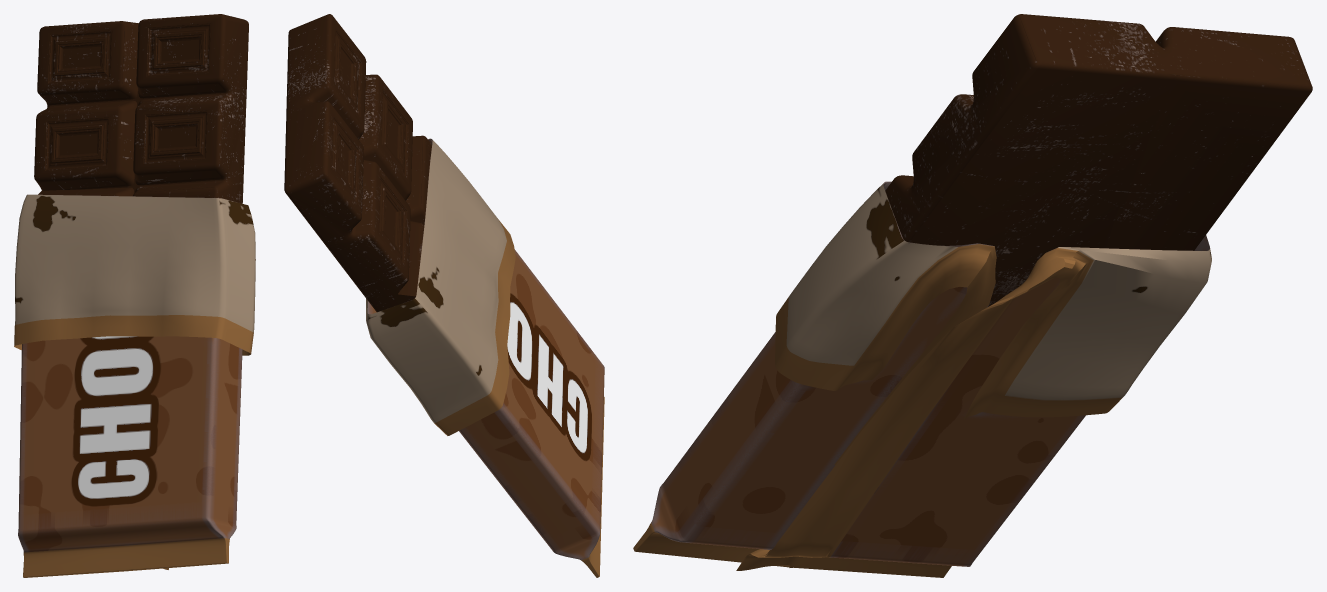
The model's file is chocolatebar-CqOvU2fA.glb.
3 views of the same model, side by side, from view 1: azimuth 30°, elevation 25°; view 2: azimuth 150°, elevation 25°; view 3: azimuth 270°, elevation 25° (orthographic). The views are drawn at different scales.
Parts seen in each view (by area): view 1: Wrapper_ModelMain_1, Chocolate_ModelMain_0; view 2: Wrapper_ModelMain_1, Chocolate_ModelMain_0; view 3: Wrapper_ModelMain_1, Chocolate_ModelMain_0.
Part boxes in pixels (left/top/right/bottom): Wrapper_ModelMain_1: left=14, top=194, right=255, bottom=577; Chocolate_ModelMain_0: left=34, top=14, right=248, bottom=203; Wrapper_ModelMain_1: left=366, top=138, right=604, bottom=577; Chocolate_ModelMain_0: left=284, top=14, right=431, bottom=312; Wrapper_ModelMain_1: left=633, top=181, right=1211, bottom=577; Chocolate_ModelMain_0: left=885, top=14, right=1312, bottom=306.
Bounding box in the file's own units: 2.01 × 3.61 × 3.07.
Materials: 2 (2 with a texture image).
